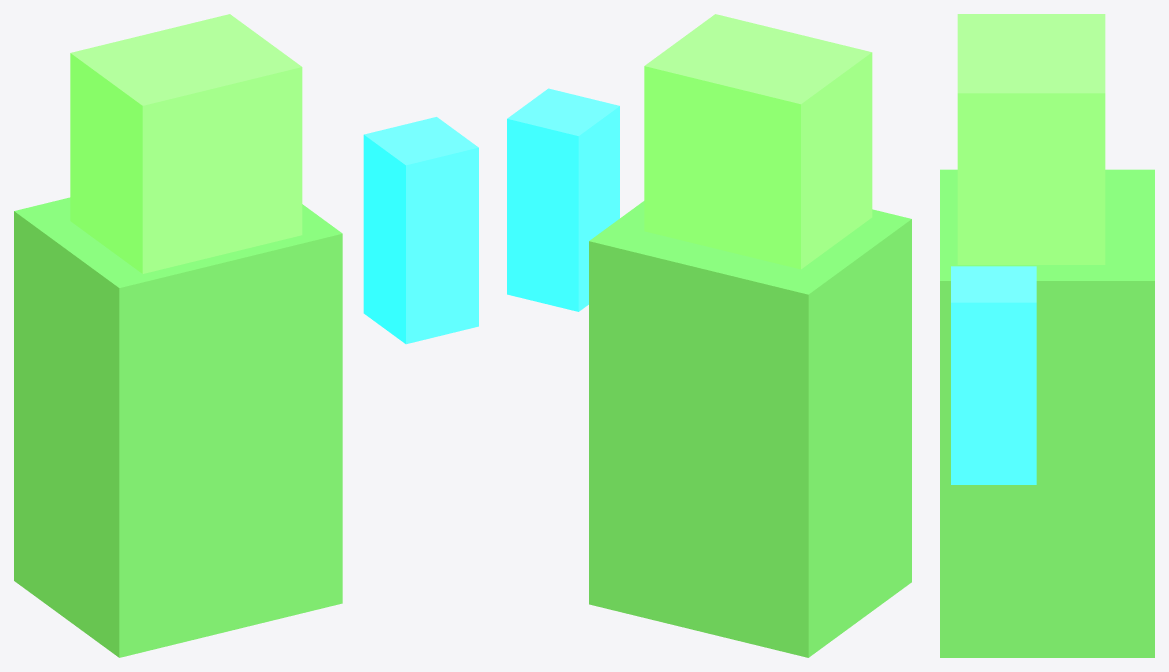
File: hero_chaman.glb
3 views of the same model, side by side, from view 1: azimuth 30°, elevation 25°; view 2: azimuth 150°, elevation 25°; view 3: azimuth 270°, elevation 25° (orthographic). The views are drawn at different scales.
Parts seen in each view (by area): view 1: Torso, Head, Weapon; view 2: Torso, Head, Weapon; view 3: Torso, Head, Weapon.
Part boxes in pixels (left/top/right/bottom): Torso: left=14, top=197, right=342, bottom=657; Head: left=70, top=14, right=302, bottom=273; Weapon: left=363, top=117, right=478, bottom=344; Torso: left=589, top=201, right=911, bottom=657; Head: left=644, top=14, right=872, bottom=269; Weapon: left=507, top=88, right=619, bottom=311; Torso: left=940, top=169, right=1154, bottom=657; Head: left=957, top=14, right=1105, bottom=264; Weapon: left=951, top=266, right=1036, bottom=484.
Size of the model in its own units: 1.6 by 2.25 by 0.8.
